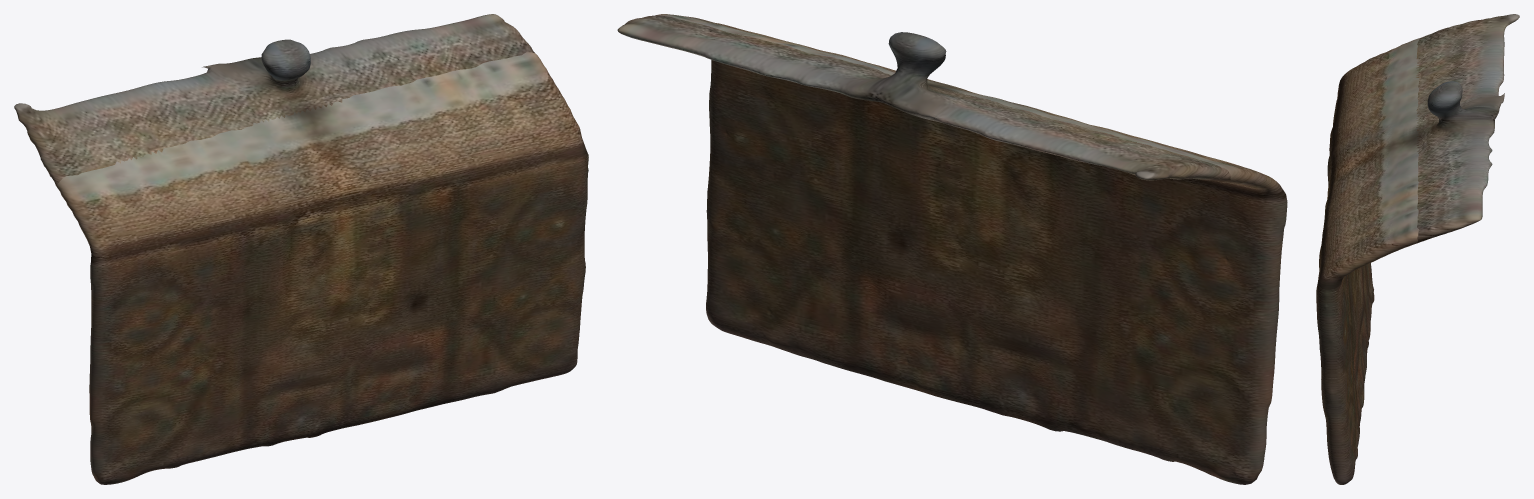
The model's file is kfl-2305.glb.
3 views of the same model, side by side, from view 1: azimuth 30°, elevation 25°; view 2: azimuth 150°, elevation 25°; view 3: azimuth 270°, elevation 25° (orthographic). The views are drawn at different scales.
Parts seen in each view (by area): view 1: geometry_0; view 2: geometry_0; view 3: geometry_0.
Part boxes in pixels (x1=…): geometry_0: x1=14, y1=14, x2=588, y2=484; geometry_0: x1=617, y1=14, x2=1287, y2=484; geometry_0: x1=1316, y1=14, x2=1519, y2=484.
Size of the model in its own units: 0.9842 by 0.6814 by 0.3996.
1 material, 1 textured.
